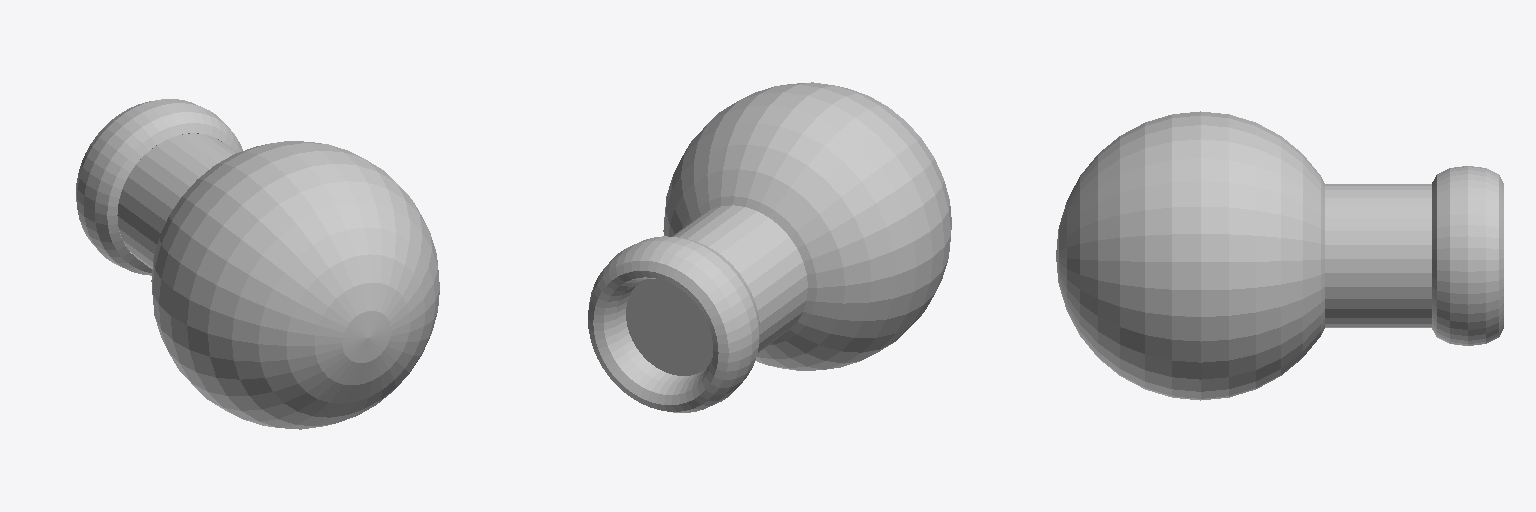
The model's file is fixed.obj.
The picture shows the model from 3 angles: view 1: azimuth 30°, elevation 25°; view 2: azimuth 150°, elevation 25°; view 3: azimuth 270°, elevation 25°; orthographic projection.
Parts seen in each view (by area): view 1: トーラス; view 2: トーラス; view 3: トーラス.
Boxes of the visible parts, x1=… form: トーラス: x1=76, y1=99, x2=439, y2=429; トーラス: x1=588, y1=82, x2=951, y2=412; トーラス: x1=1056, y1=111, x2=1503, y2=400.
Size of the model in its own units: 2 by 2 by 3.1.